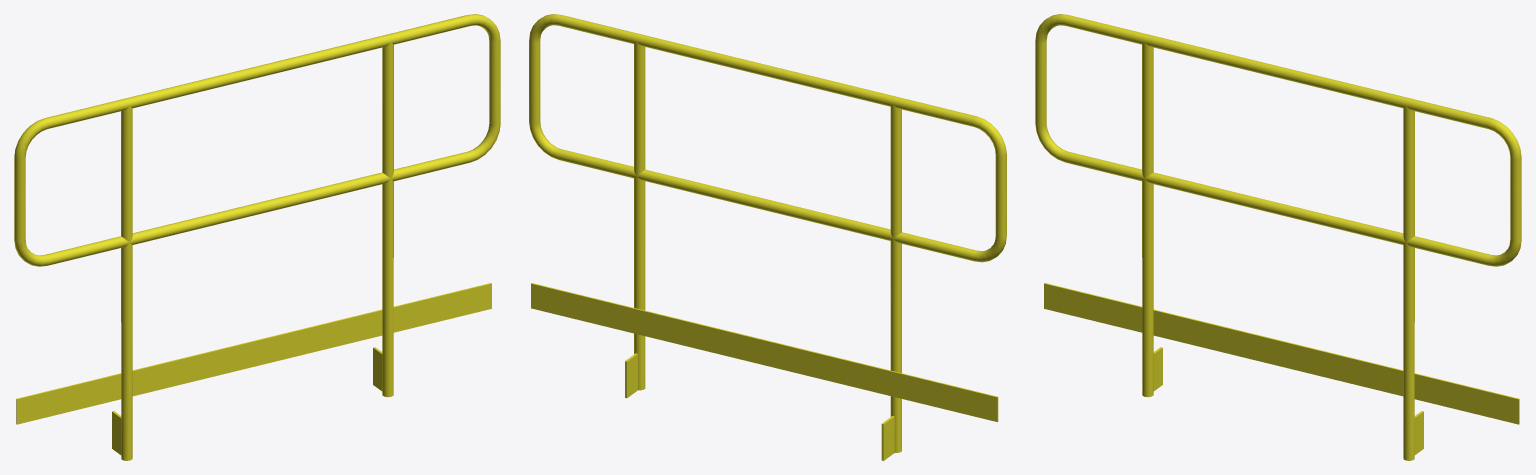
File: baranda 2000.glb
The picture shows the model from 3 angles, left to right: view 1: azimuth 30°, elevation 25°; view 2: azimuth 150°, elevation 25°; view 3: azimuth 330°, elevation 25°; orthographic projection.
Visible parts, largest first — view 1: Solid1; view 2: Solid1; view 3: Solid1.
Boxes of the visible parts, bbox=[...] form: Solid1: bbox=[14, 14, 500, 460]; Solid1: bbox=[529, 14, 1006, 460]; Solid1: bbox=[1035, 14, 1521, 460].
Bounding box in the file's own units: 2.04 × 1.45 × 0.1222.
